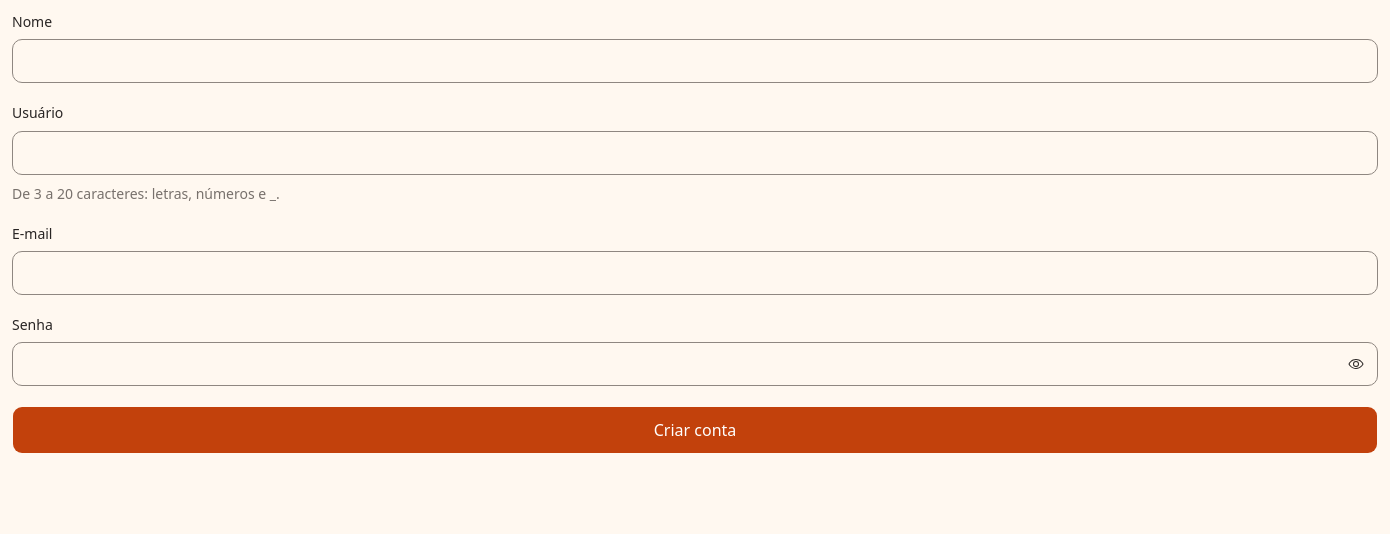
Test case: SignUpForm › reports when the server cannot be reached
The image size is (1390, 534).
In the field labelled "Nome": point(695, 61) [12,39,1378,83], type "Ana Souza"
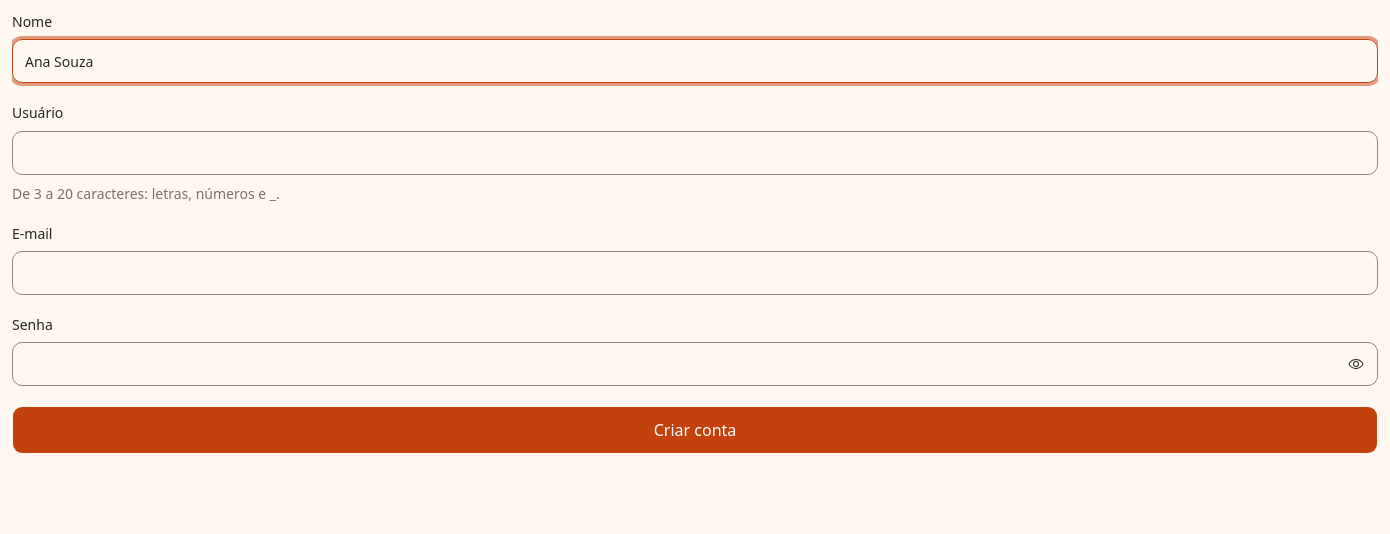
In the field labelled "Usuário": point(695, 152) [12,130,1378,174], type "ana_souza"
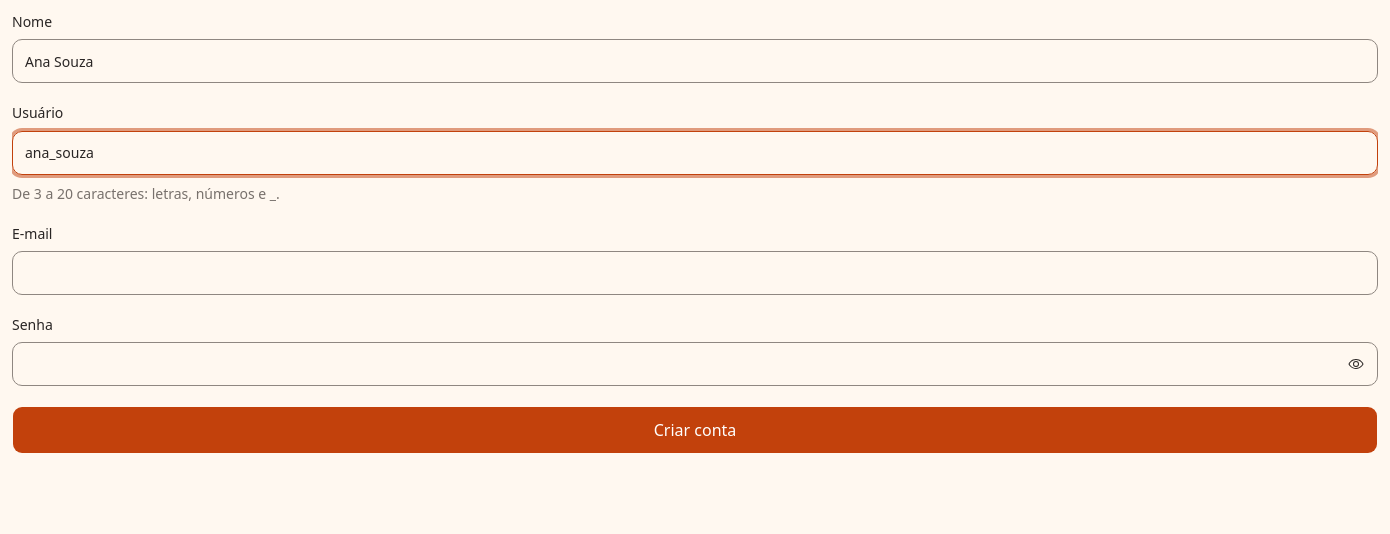
In the field labelled "E-mail": point(695, 273) [12,251,1378,295], type "ana@example.com"
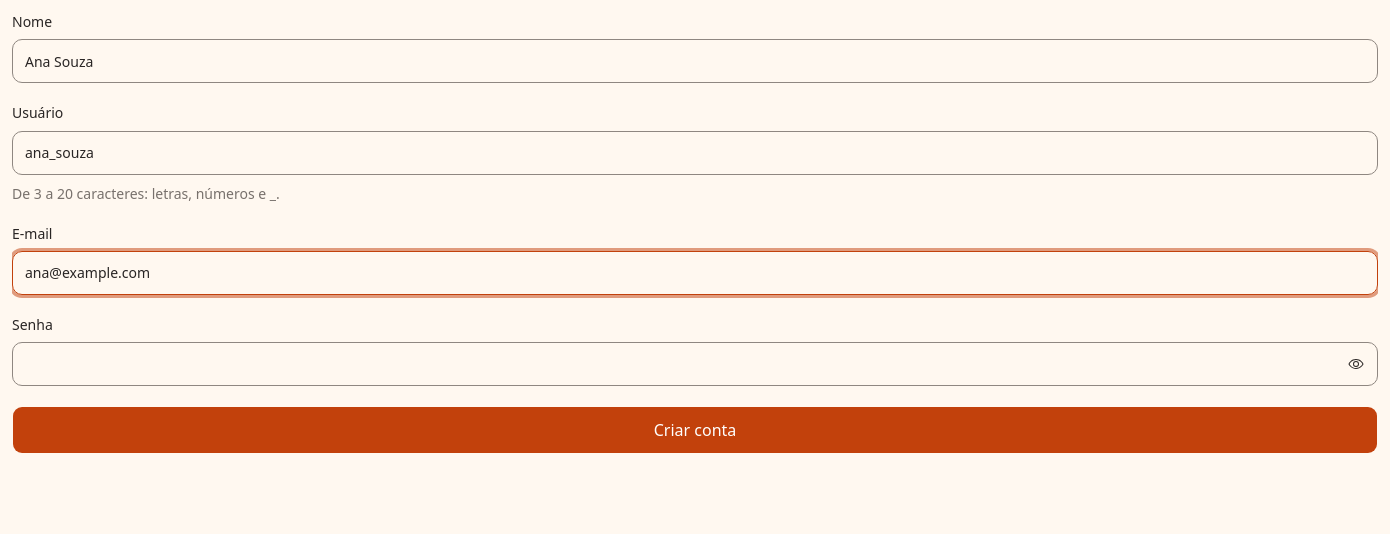
In the password field labelled "Senha": point(695, 364) [12,342,1378,386], type "secret"
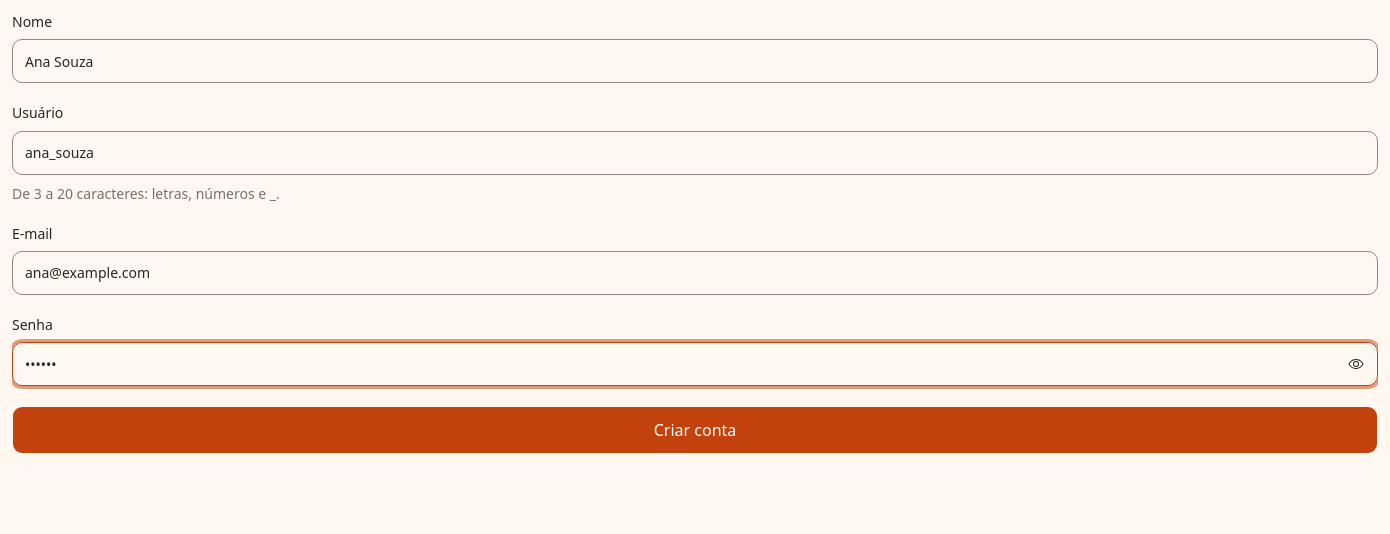
Click the button "Criar conta": point(695, 430) [12,406,1378,454]
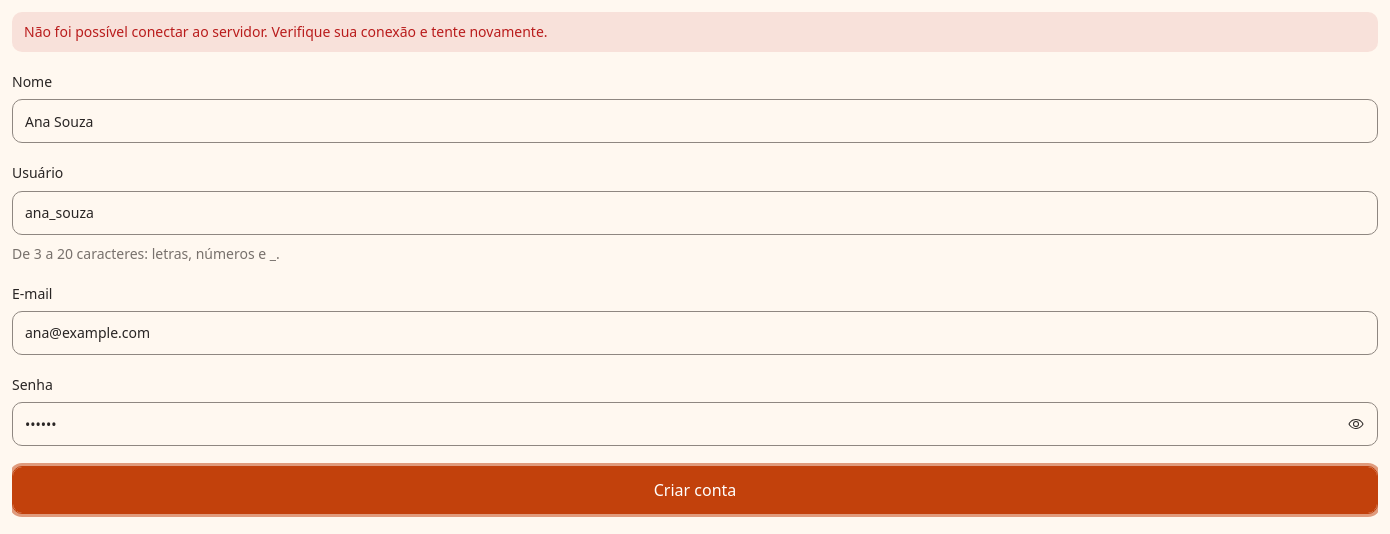
Expected: the message shows "Não foi possível conectar", [24,22,548,41]
